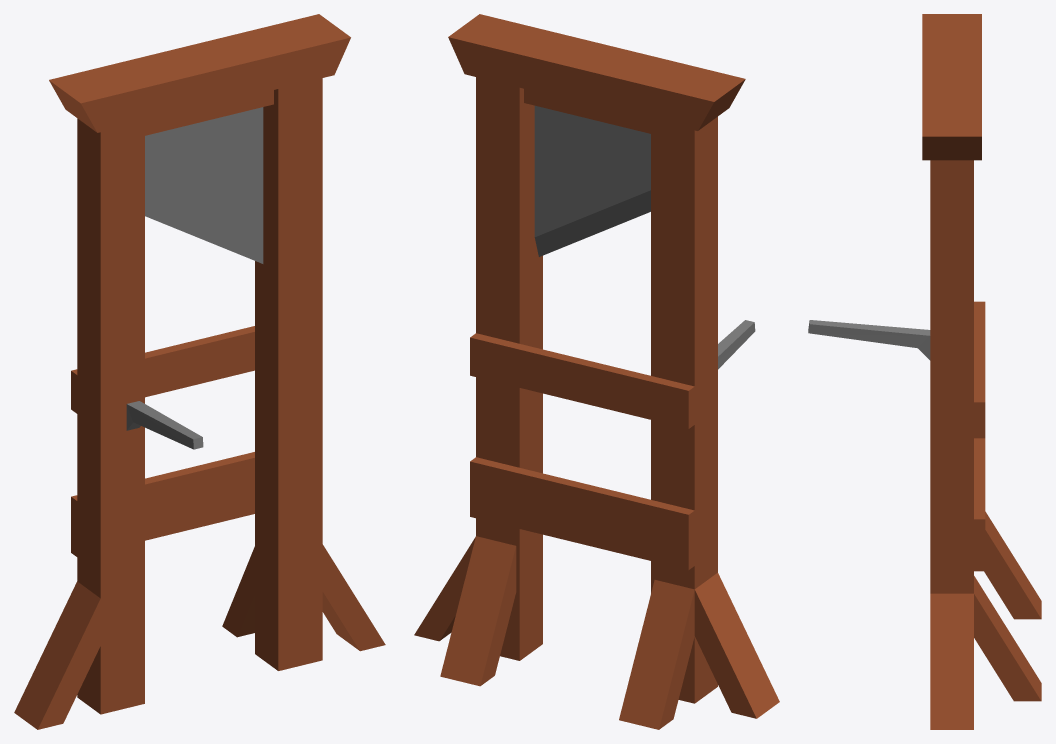
Rendered from Prop_Fantasy_Guillotine_01.FBX.
3 views of the same model, side by side, from view 1: azimuth 30°, elevation 25°; view 2: azimuth 150°, elevation 25°; view 3: azimuth 270°, elevation 25° (orthographic). The views are drawn at different scales.
Parts seen in each view (by area): view 1: Prop_Fantasy_Guillotine_01; view 2: Prop_Fantasy_Guillotine_01; view 3: Prop_Fantasy_Guillotine_01.
Part boxes in pixels (<box>): Prop_Fantasy_Guillotine_01: <box>14,14,385,729</box>; Prop_Fantasy_Guillotine_01: <box>414,14,779,729</box>; Prop_Fantasy_Guillotine_01: <box>808,14,1041,729</box>.
Bounding box in the file's own units: 1613 × 2744 × 1007.
